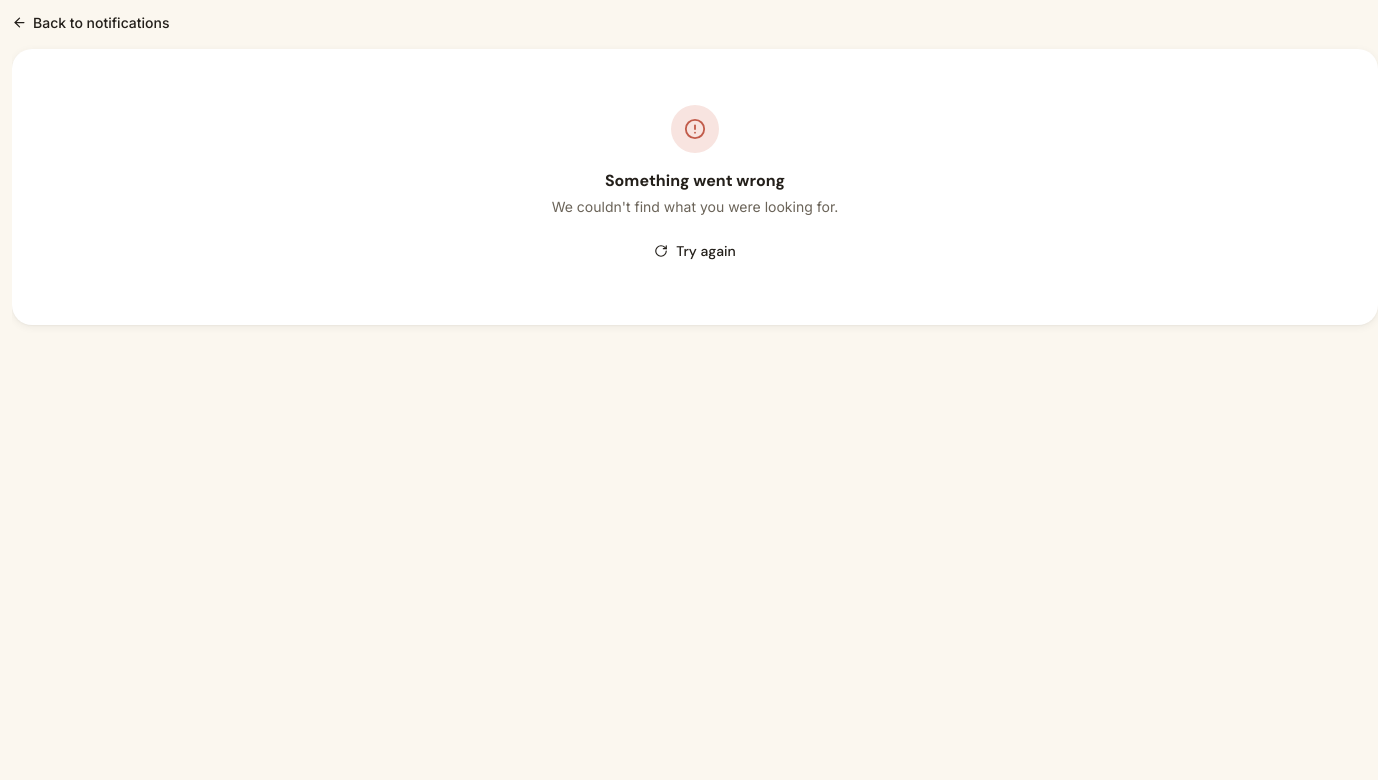
Daily Business Summary page › shows an error state with retry, then recovers
Check: the text "We couldn't find what you were looking for." is shown, box [552, 196, 838, 216]
Click the button "Try again". click: (695, 250)
box: [642, 232, 748, 268]
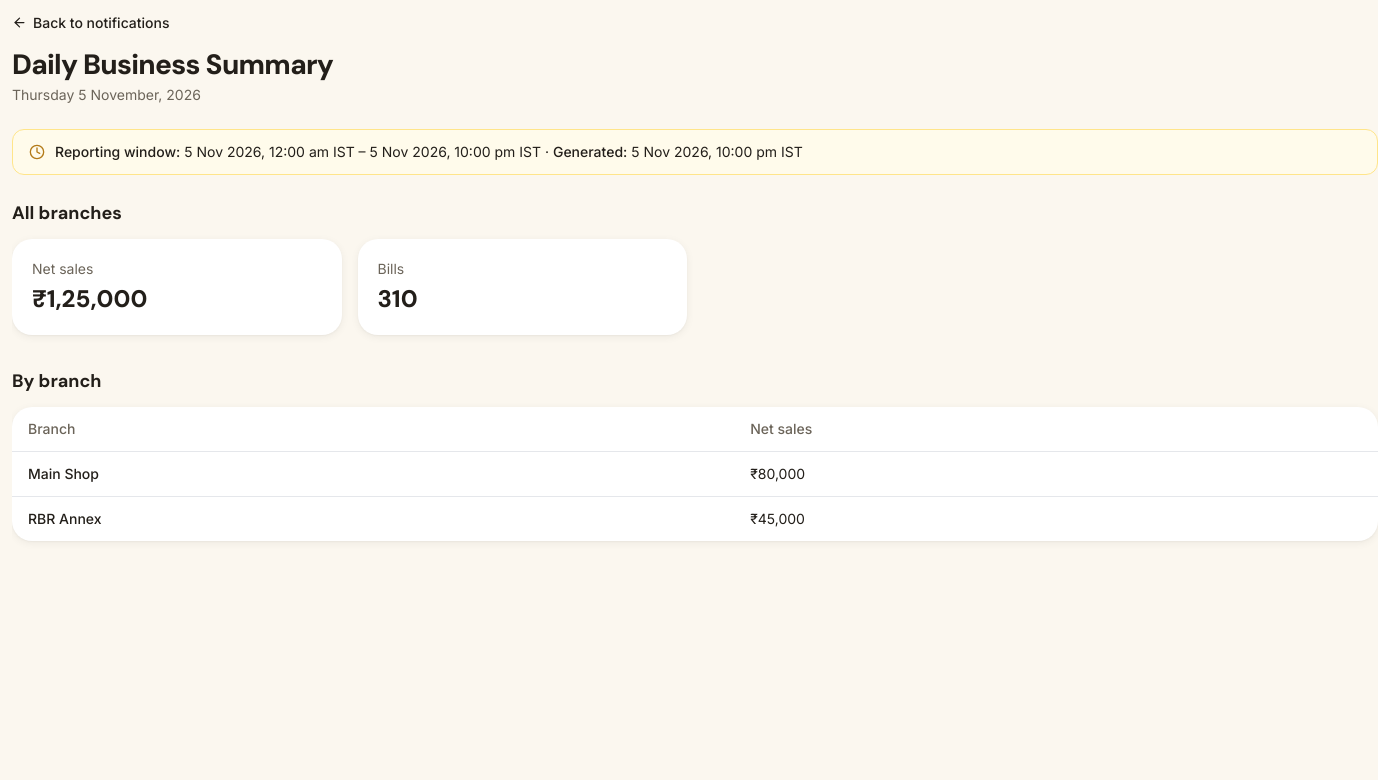
Check: the text "₹1,25,000" is shown, box [32, 282, 147, 314]
